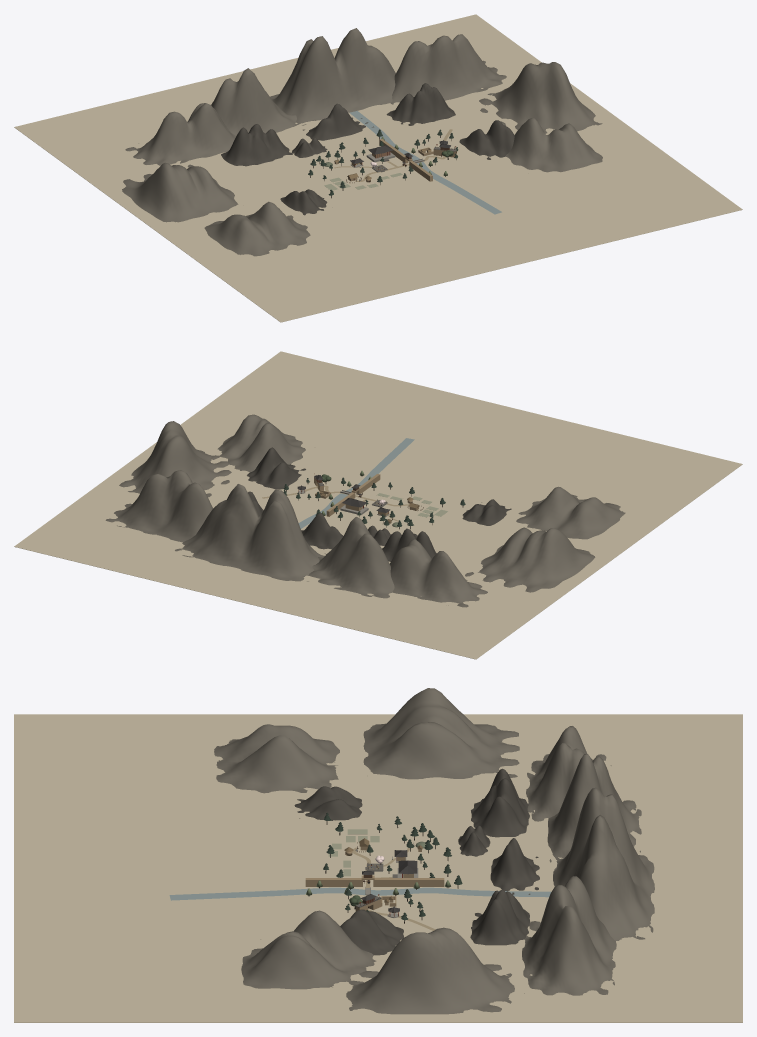
Rendered from 孔子生平.glb.
The picture shows the model from 3 angles, top to bottom: view 1: azimuth 30°, elevation 25°; view 2: azimuth 150°, elevation 25°; view 3: azimuth 270°, elevation 25°; orthographic projection. The views are drawn at different scales.
Visible parts, largest first — view 1: 地面, 遠山, 泗水, 松林; view 2: 地面, 遠山, 泗水, 松林; view 3: 地面, 遠山, 泗水, 松林, 魯城牆.
Boxes of the visible parts, box(x1,y1,x2,y2) form: 地面: box(14, 14, 742, 322); 遠山: box(122, 28, 602, 256); 泗水: box(349, 111, 501, 214); 松林: box(308, 129, 458, 198); 地面: box(14, 351, 742, 659); 遠山: box(105, 414, 625, 607); 泗水: box(298, 438, 414, 528); 松林: box(283, 477, 465, 529); 地面: box(14, 714, 742, 1022); 遠山: box(214, 688, 654, 1014); 泗水: box(169, 887, 551, 900); 松林: box(323, 812, 462, 923); 魯城牆: box(305, 878, 444, 886).
Bounding box in the file's own units: 420 × 61.35 × 420.
